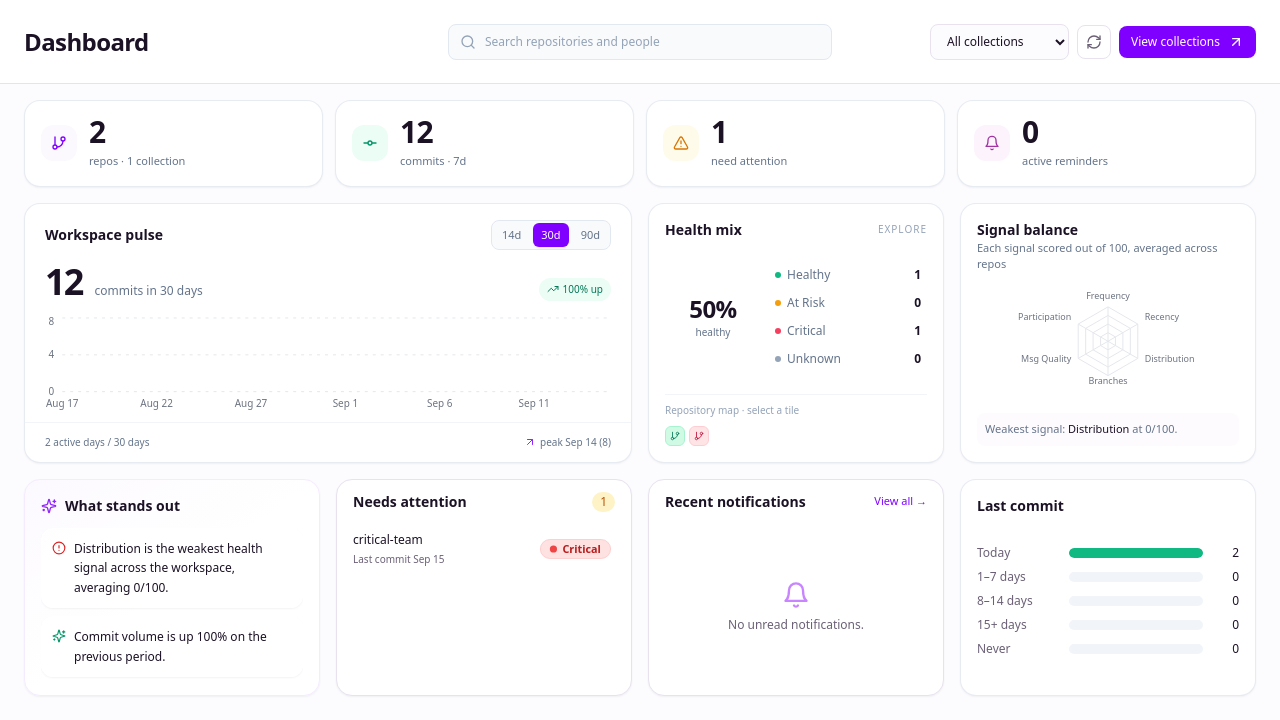
Test: DashboardPage — interactive workspace › uses health legend buttons to explore repositories with that status
The image size is (1280, 720).
Check: the text "critical-team" is shown, box [353,530,423,548]
Click the button with aria-label "Show Healthy repositories". click: (848, 274)
box: [769,262,927,286]
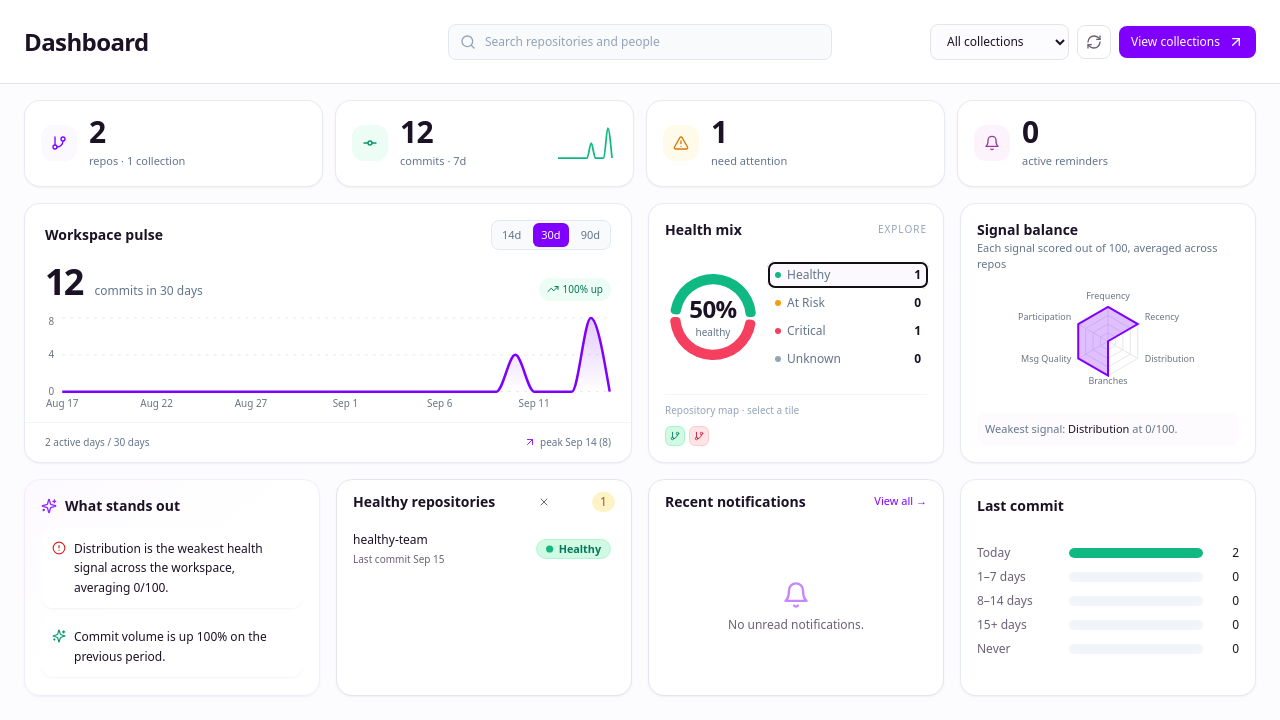
Check: the text "healthy-team" is shown, box [353,530,428,548]
Check: the link "critical-team" is gone
Click the button named "Clear health filter". click: (544, 502)
box: [534,492,554,512]
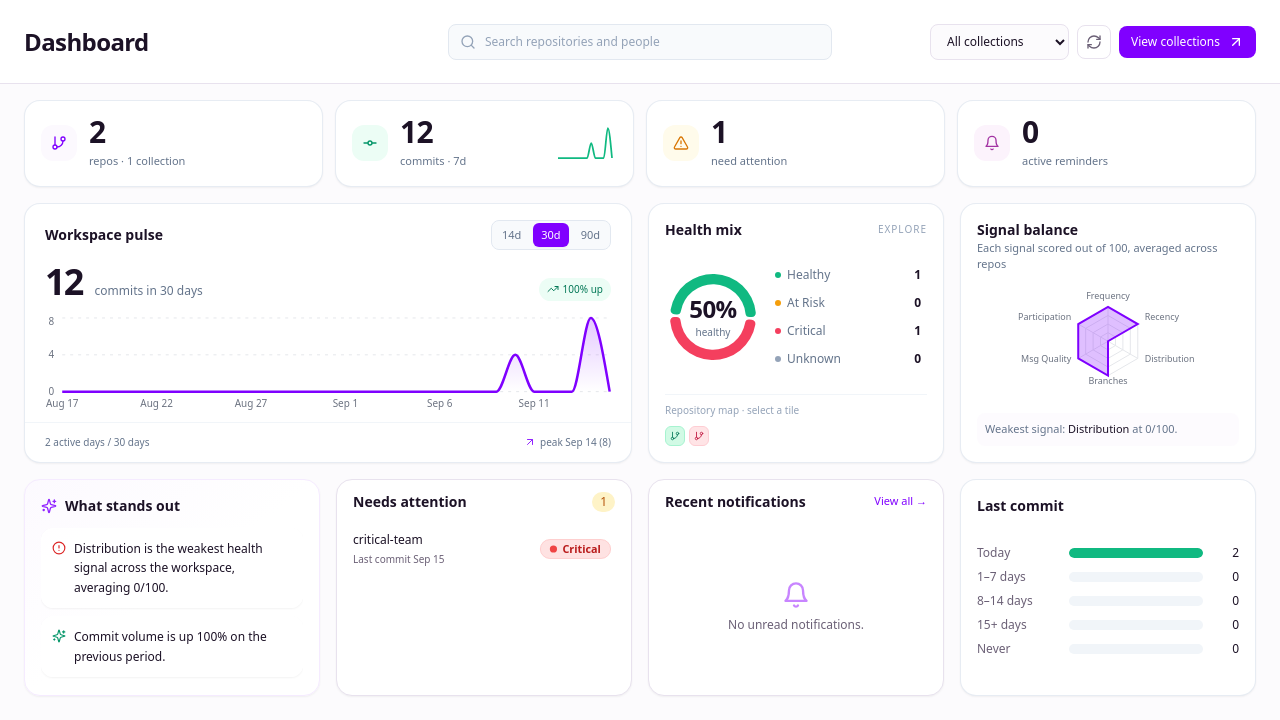
Check: the text "critical-team" is shown, box [353,530,423,548]
